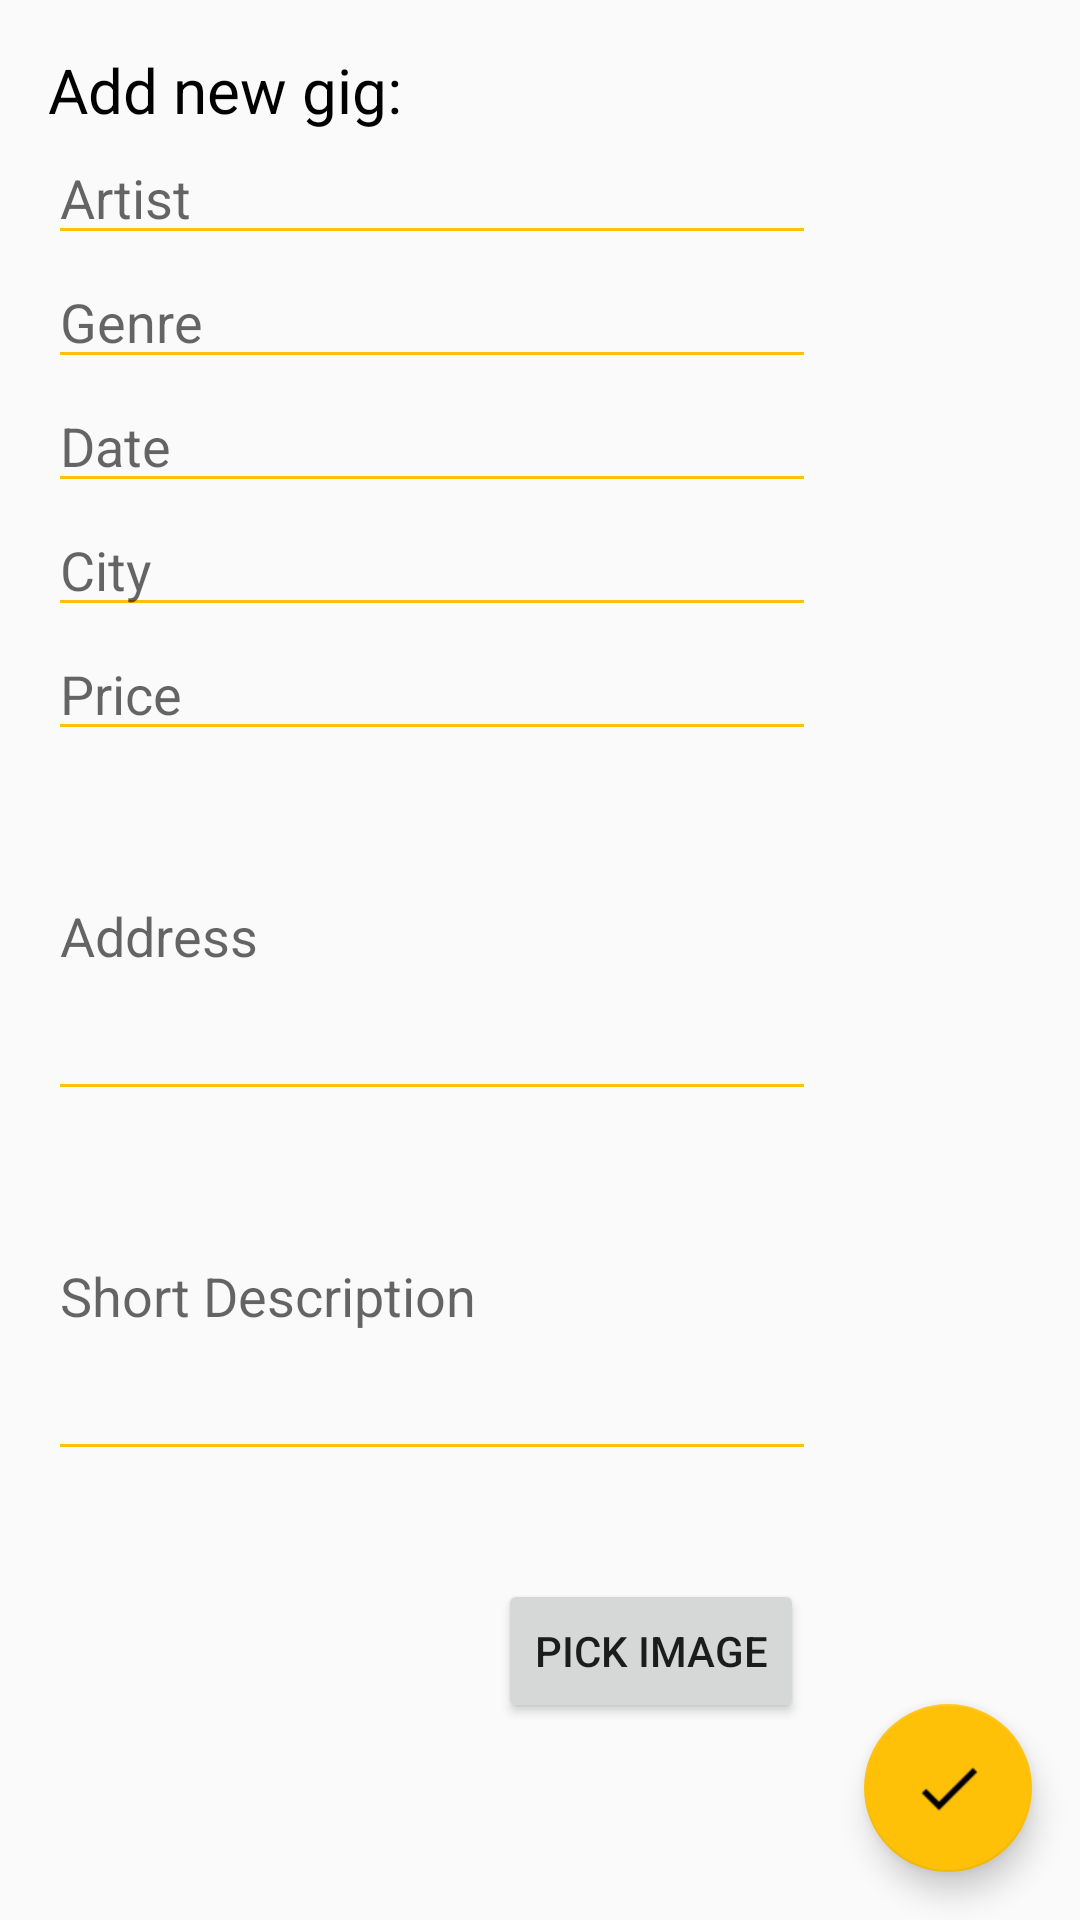

Named icons in this screenshot (1080×1920) and their centers, point (x, y):
check mark: point (948, 1788)
